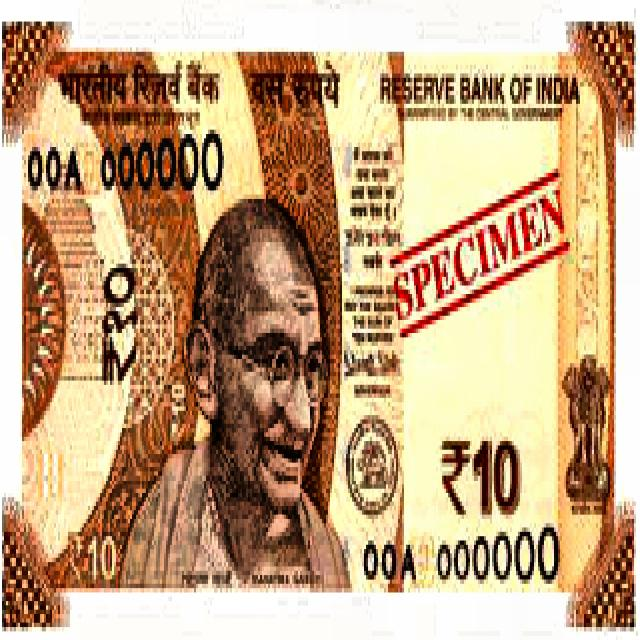-10-: (4, 22, 640, 593)
